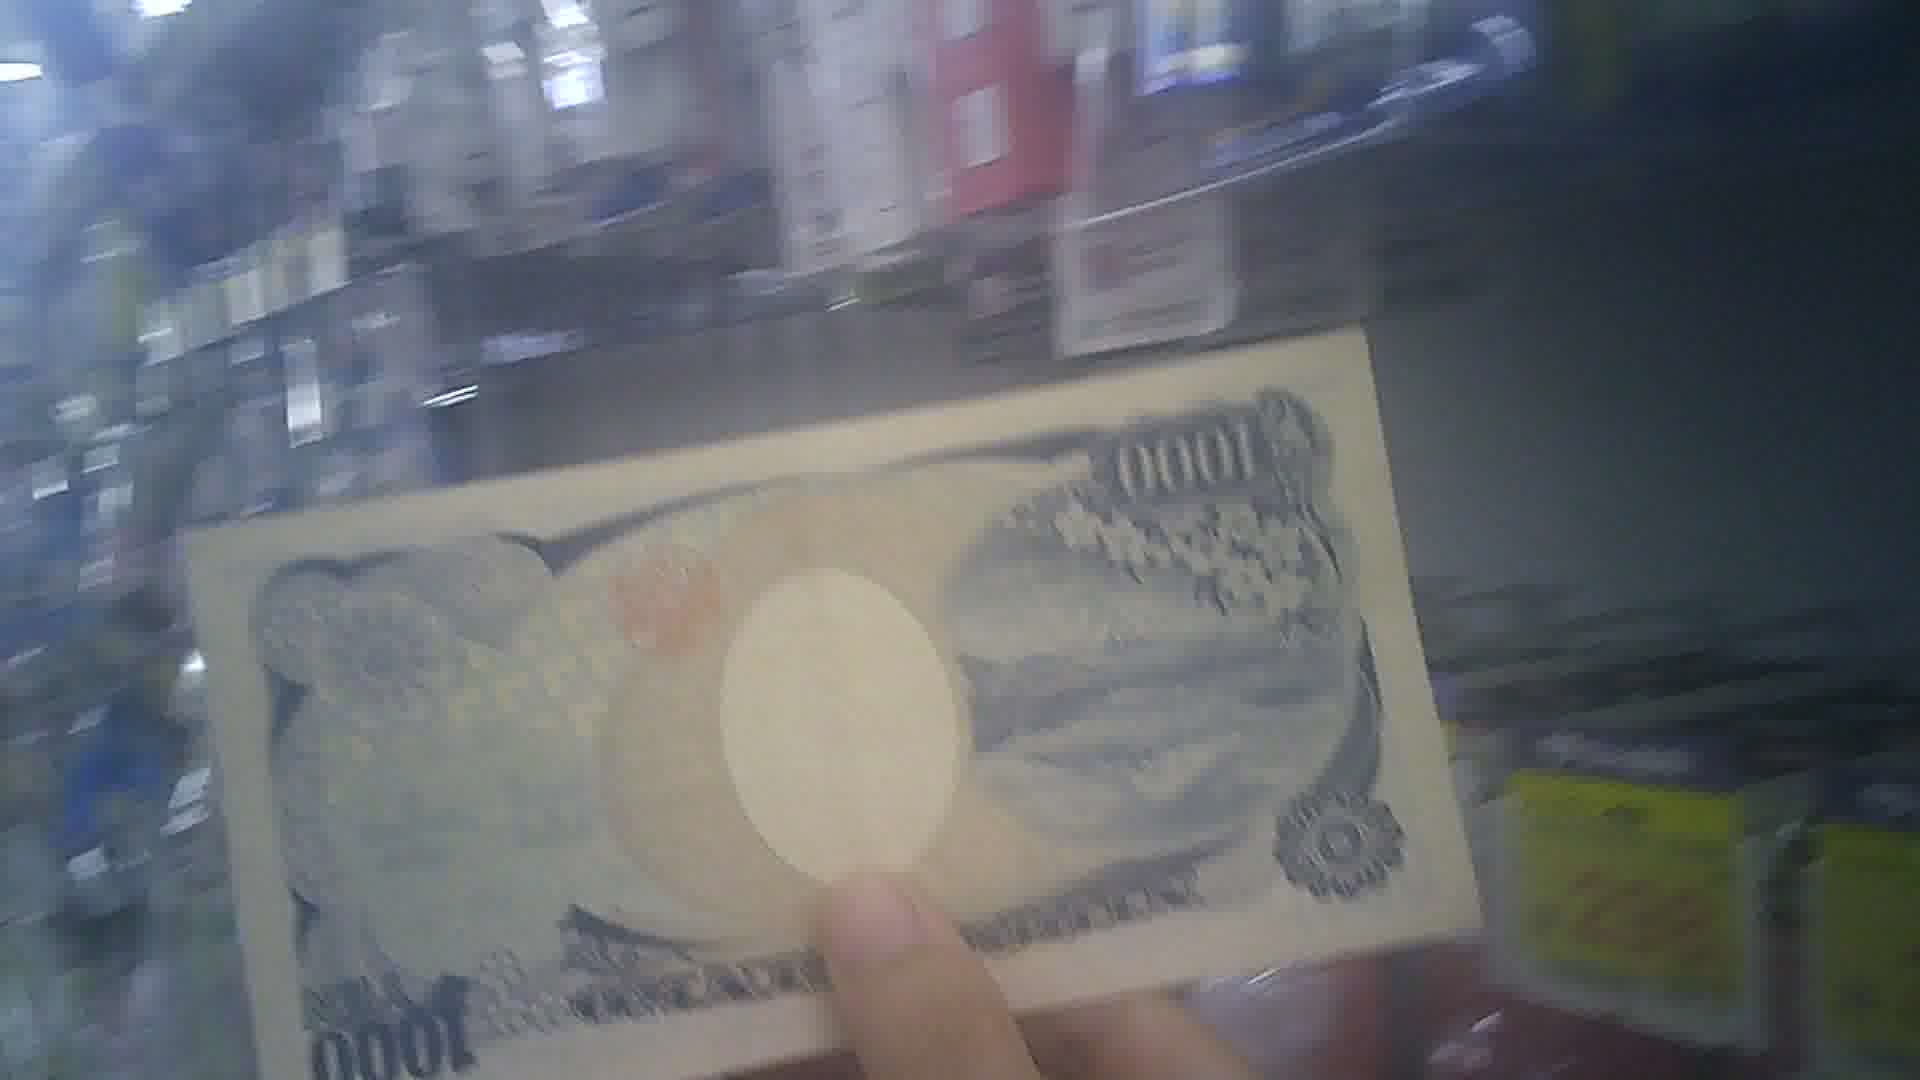1,000 Yen: (193, 315, 1491, 1068)
